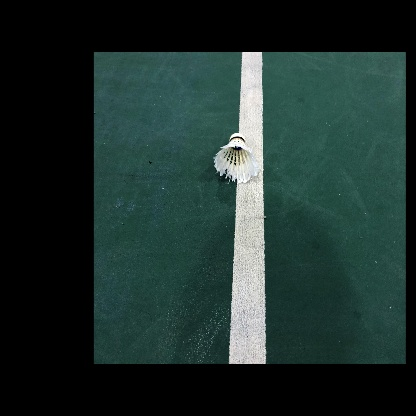ball_single: (214, 133, 258, 183)
